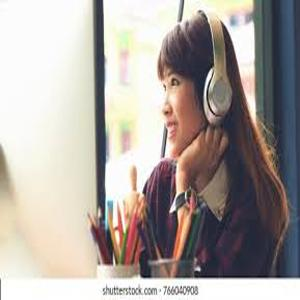Headphones: (199, 1, 235, 125)
